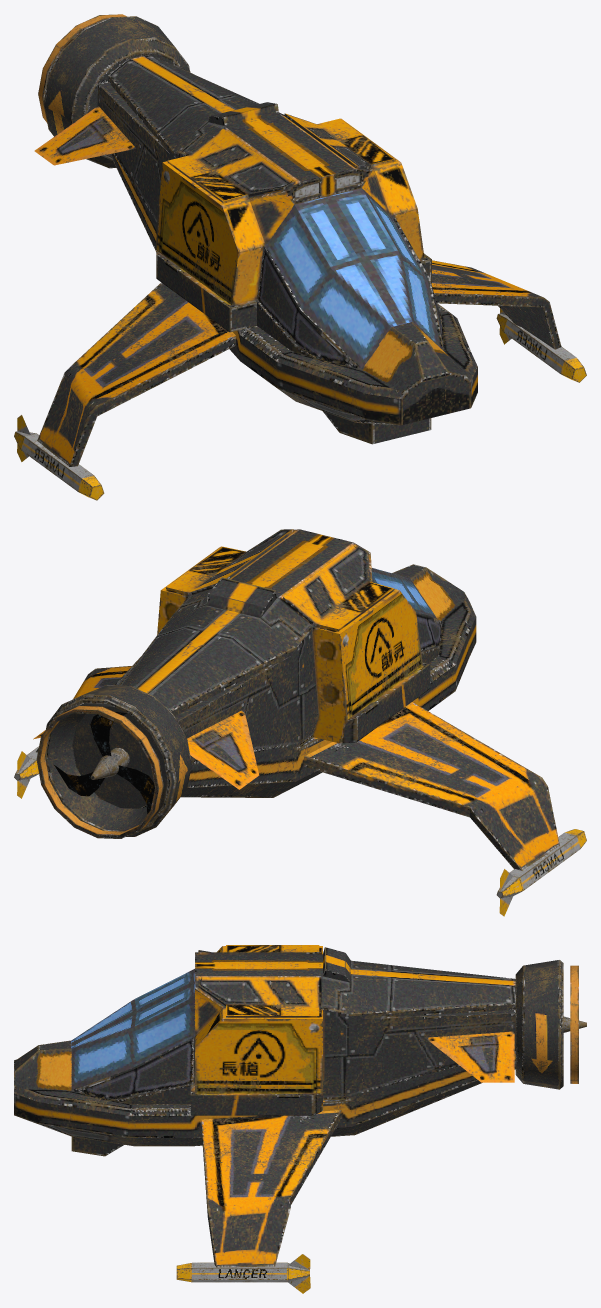
File: psx_mini_submarine.glb
3 renders of one model, top to bottom at view 1: azimuth 30°, elevation 25°; view 2: azimuth 150°, elevation 25°; view 3: azimuth 270°, elevation 25°, orthographic. The views are drawn at different scales.
Parts seen in each view (by area): view 1: main, torpedo2, torpedo; view 2: main, torpedo2, blade, torpedo; view 3: main, torpedo.
Boxes of the visible parts, bbox=[...] form: main: bbox=[34, 14, 561, 466]; torpedo2: bbox=[14, 415, 104, 500]; torpedo: bbox=[496, 308, 586, 382]; main: bbox=[33, 529, 559, 870]; torpedo2: bbox=[496, 829, 586, 916]; blade: bbox=[54, 712, 154, 813]; torpedo: bbox=[14, 746, 38, 798]; main: bbox=[14, 945, 586, 1267]; torpedo: bbox=[176, 1254, 310, 1293].
Bounding box in the file's own units: 8.09 × 4.36 × 9.53.
2 materials, 2 textured.
